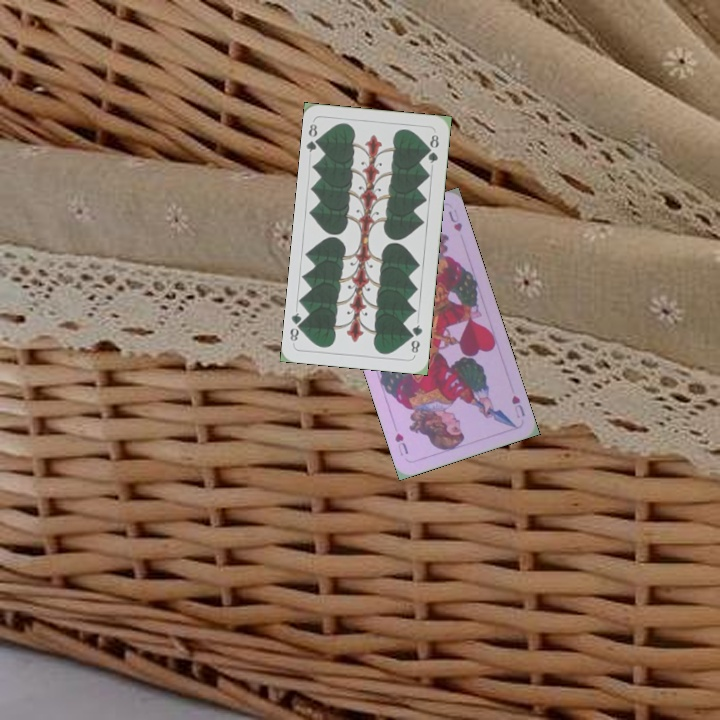G8: (303, 120, 324, 155), (406, 321, 425, 356)
HU: (507, 391, 528, 421)
